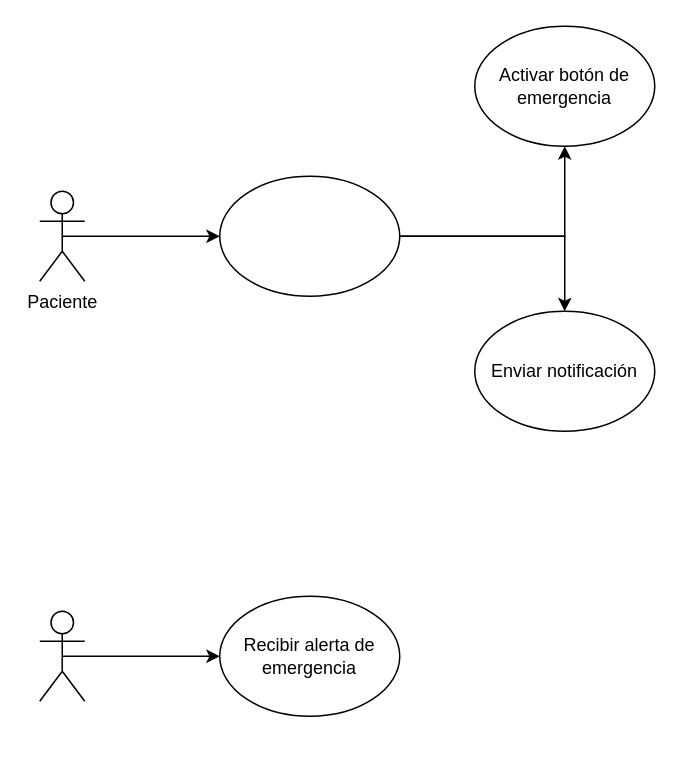
Image size: 681x759. Some labels were removed from this diagram. The centre of each missing label's shape, as x and y in pixels:
Cuidador: the point at 61,655
Enviar alertas de emergencia: the point at 309,235
